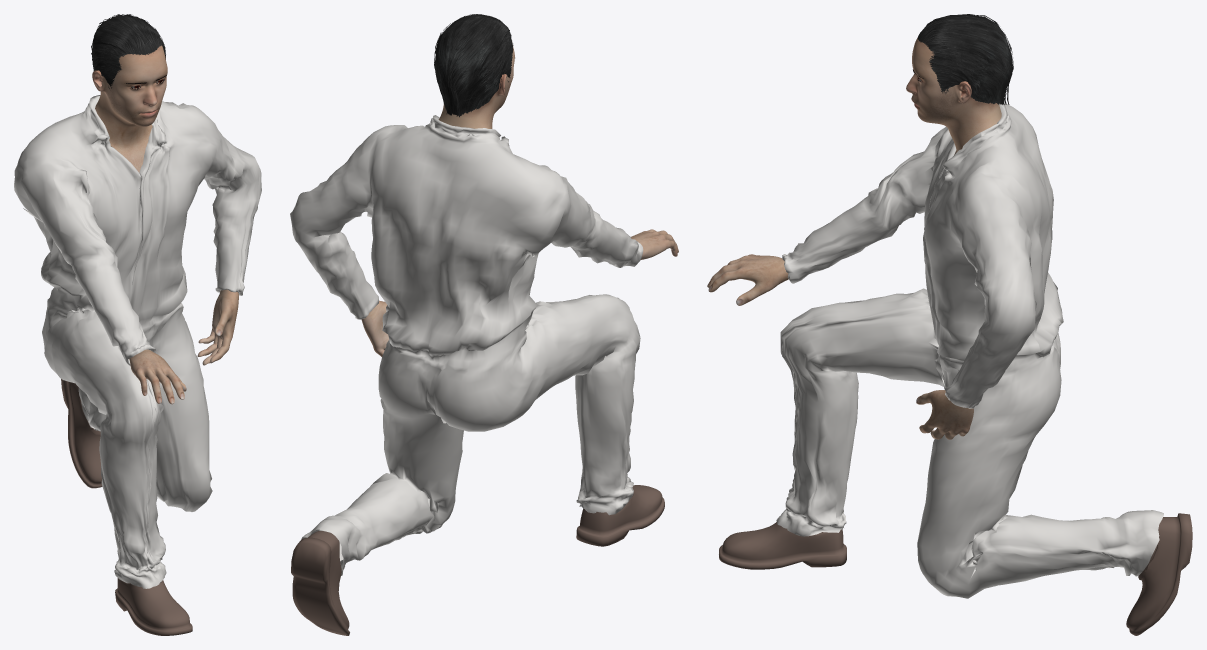
File: devotee-aodai.glb
The picture shows the model from 3 angles, left to right: view 1: azimuth 30°, elevation 25°; view 2: azimuth 150°, elevation 25°; view 3: azimuth 270°, elevation 25°; orthographic projection. The views are drawn at different scales.
Visible parts, largest first — view 1: male_casualsuit01, Avery | anatomical body, shoes01, short04; view 2: male_casualsuit01, shoes01, short04, Avery | anatomical body; view 3: male_casualsuit01, shoes01, Avery | anatomical body, short04.
Boxes of the visible parts, box(x1,y1,x2,y2) form: male_casualsuit01: box(14, 95, 261, 588); Avery | anatomical body: box(92, 45, 238, 404); shoes01: box(61, 379, 192, 635); short04: box(91, 14, 165, 88); male_casualsuit01: box(290, 115, 643, 575); shoes01: box(291, 485, 664, 635); short04: box(434, 14, 513, 117); Avery | anatomical body: box(361, 46, 678, 356); male_casualsuit01: box(776, 103, 1163, 598); shoes01: box(719, 513, 1192, 635); Avery | anatomical body: box(707, 37, 1001, 439); short04: box(918, 14, 1013, 104).
Bounding box in the file's own units: 0.6706 × 1.38 × 1.03.
Materials: 9 (7 with a texture image).
